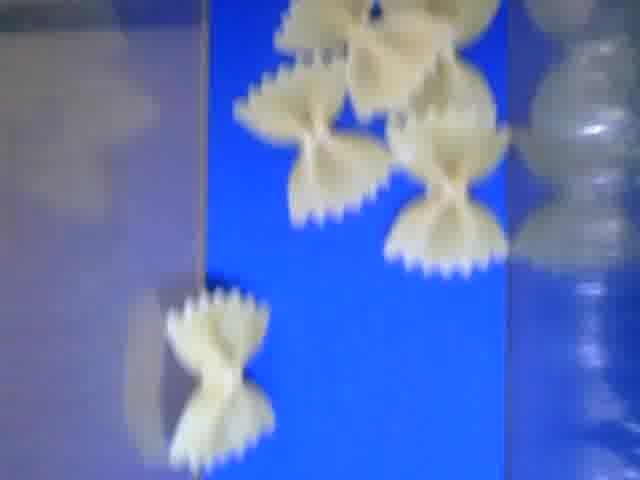farfalle: (233, 55, 390, 228), (383, 105, 510, 278), (165, 286, 280, 469), (275, 1, 445, 121)
